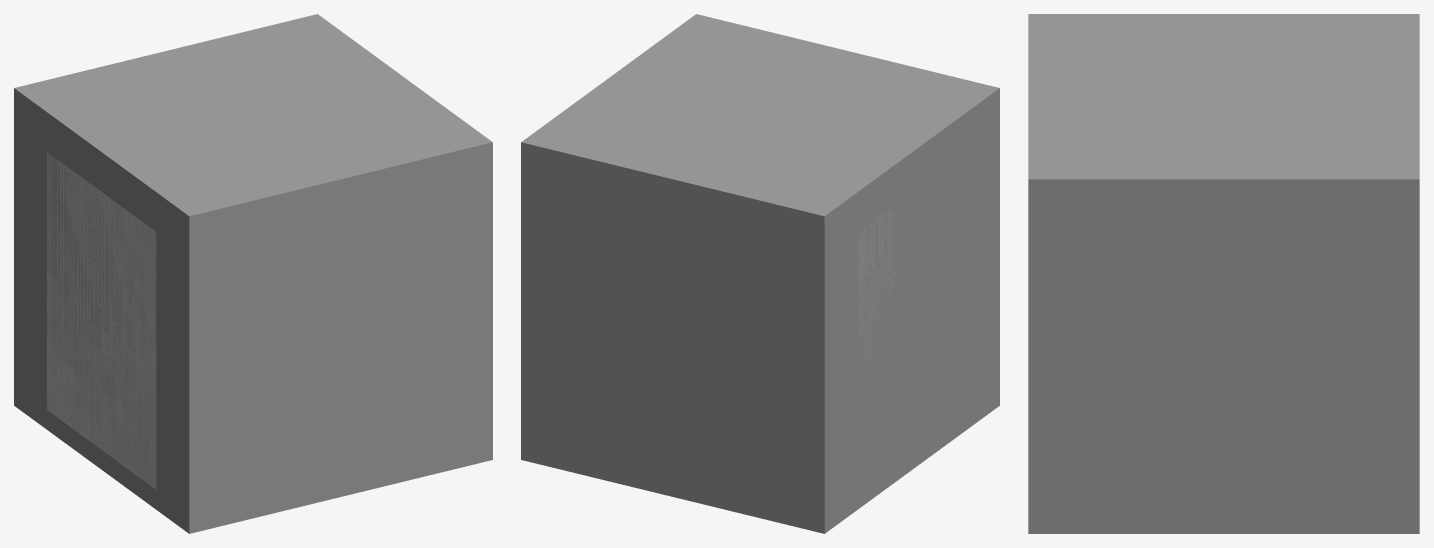
File: PLC.obj
The picture shows the model from 3 angles, left to right: view 1: azimuth 30°, elevation 25°; view 2: azimuth 150°, elevation 25°; view 3: azimuth 270°, elevation 25°; orthographic projection. The views are drawn at different scales.
Parts seen in each view (by area): view 1: Minecraft_Block_Cube, Minecraft_2_Edge_Connectivity_Cube.002, main; view 2: Minecraft_Block_Cube, Minecraft_2_Edge_Connectivity_Cube.002; view 3: Minecraft_Block_Cube, Minecraft_2_Edge_Connectivity_Cube.002.
Part boxes in pixels (x1,y1,x2,y2): Minecraft_Block_Cube: (15, 14, 492, 533); Minecraft_2_Edge_Connectivity_Cube.002: (14, 88, 252, 533); main: (47, 152, 156, 489); Minecraft_Block_Cube: (521, 14, 998, 533); Minecraft_2_Edge_Connectivity_Cube.002: (760, 88, 999, 533); Minecraft_Block_Cube: (1028, 14, 1419, 533); Minecraft_2_Edge_Connectivity_Cube.002: (1029, 14, 1418, 96).
Size of the model in its own units: 1 by 1 by 1.
2 materials, 1 textured.
